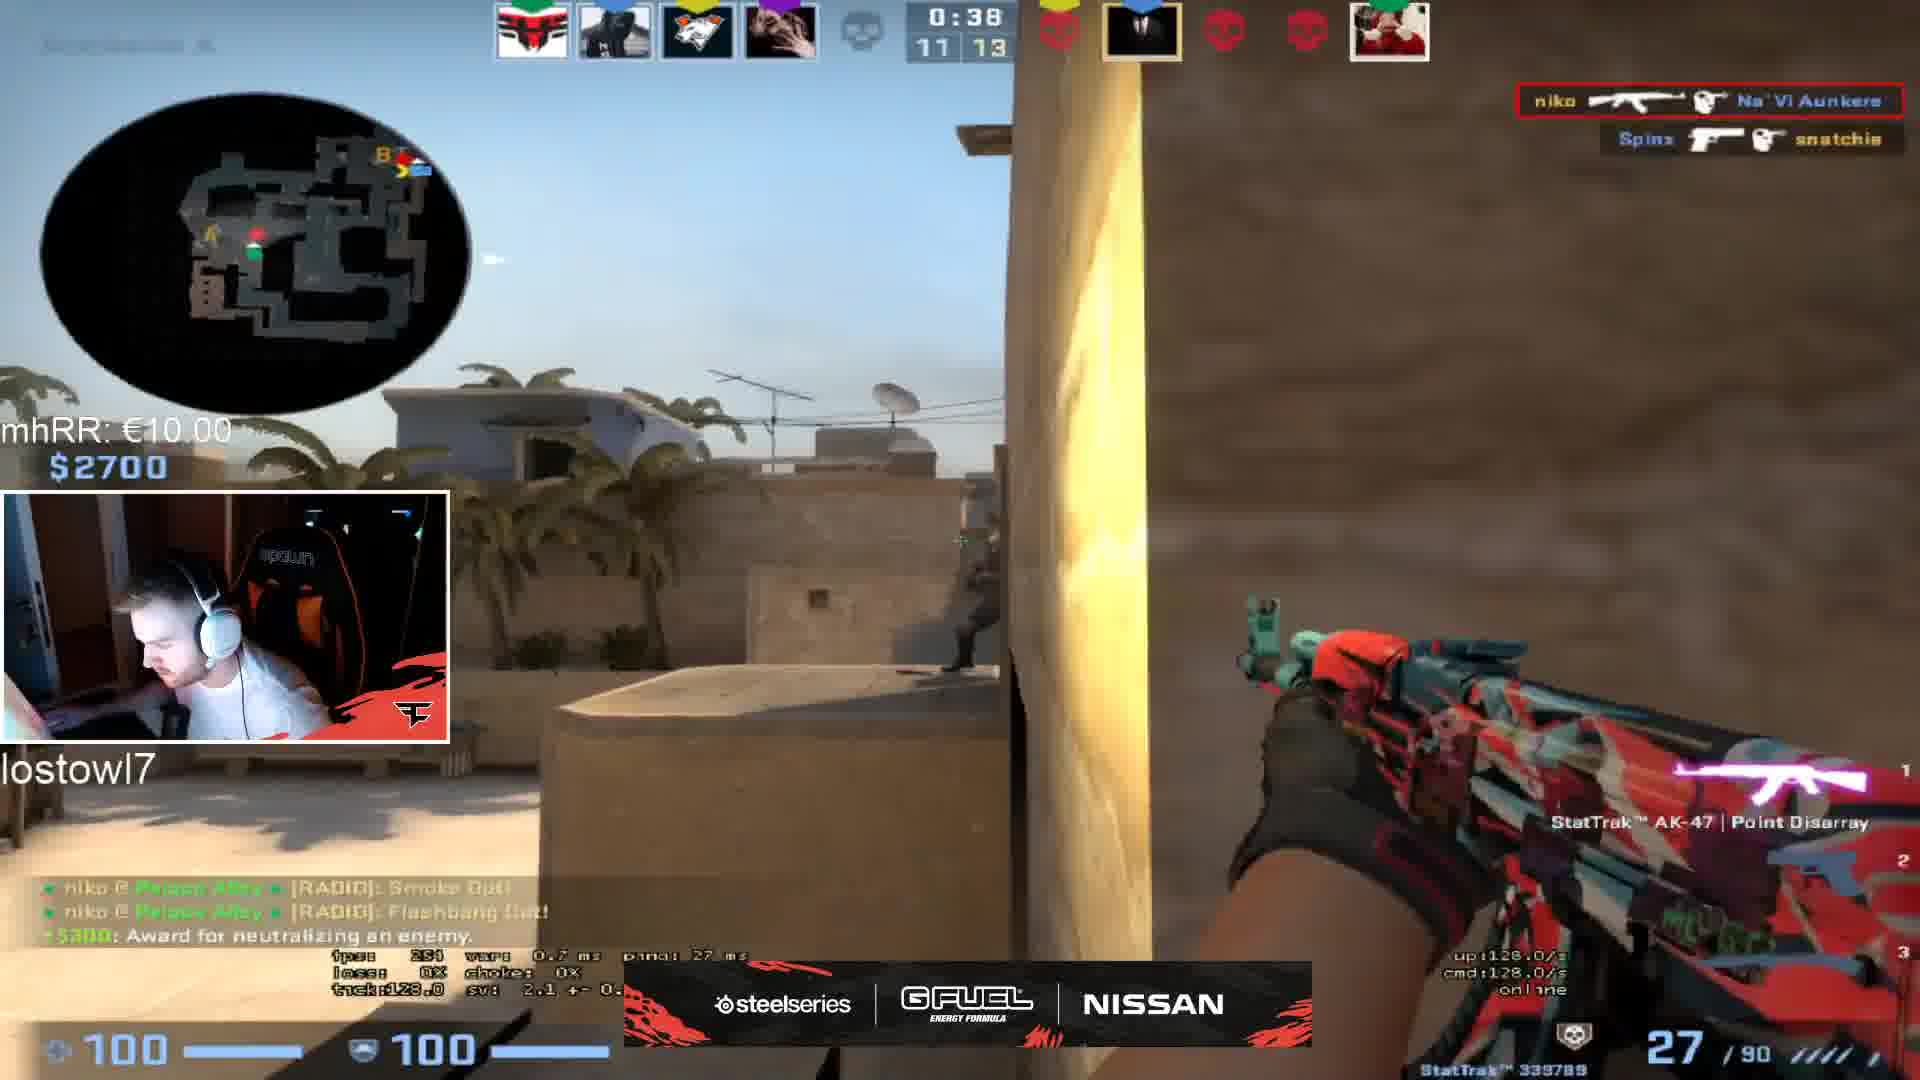enemy: (942, 529, 1011, 676)
